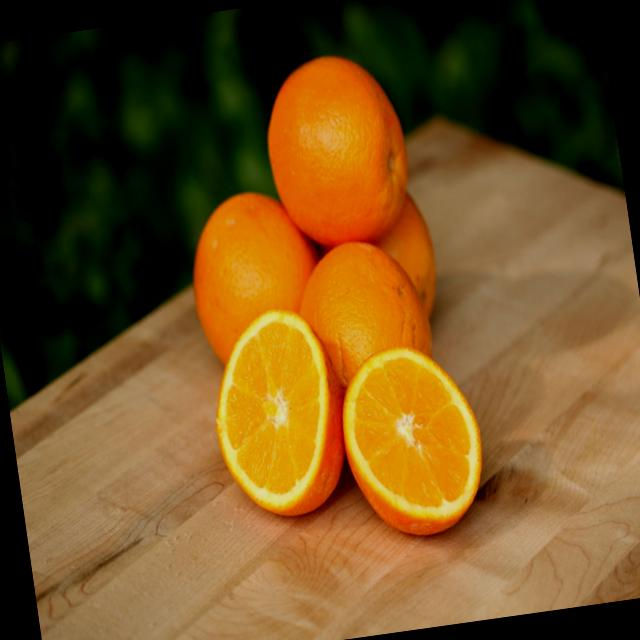orange: (244, 47, 424, 260), (180, 176, 348, 404), (280, 228, 470, 427)
